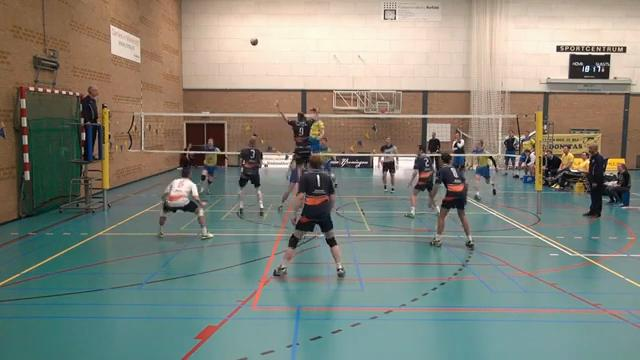muro: (272, 95, 320, 212)
